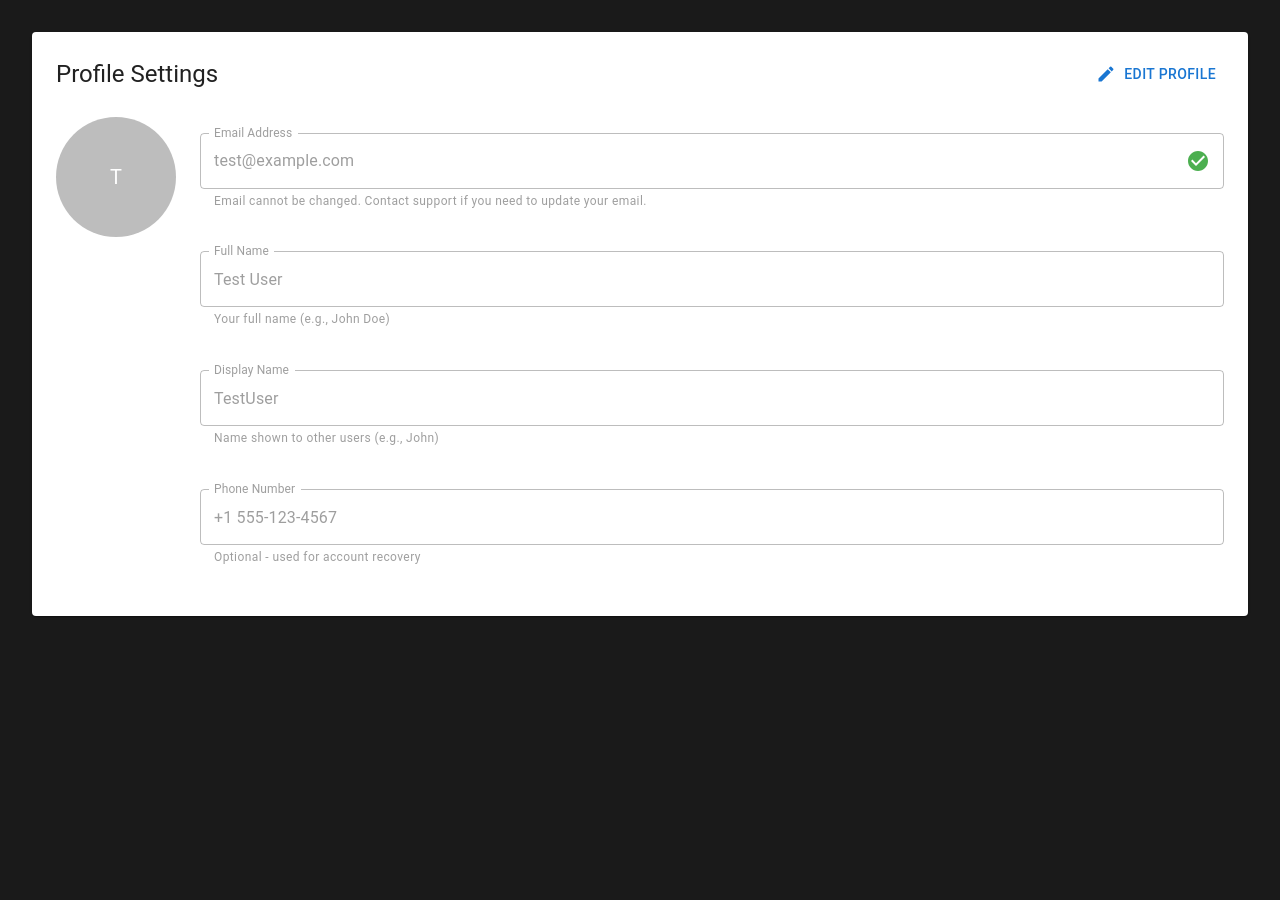
Scenario: ProfileSettings › edit mode › should reset form and exit edit mode when cancel is clicked
Click the button "Edit Profile" at (1158, 74), box [1092, 56, 1224, 92]
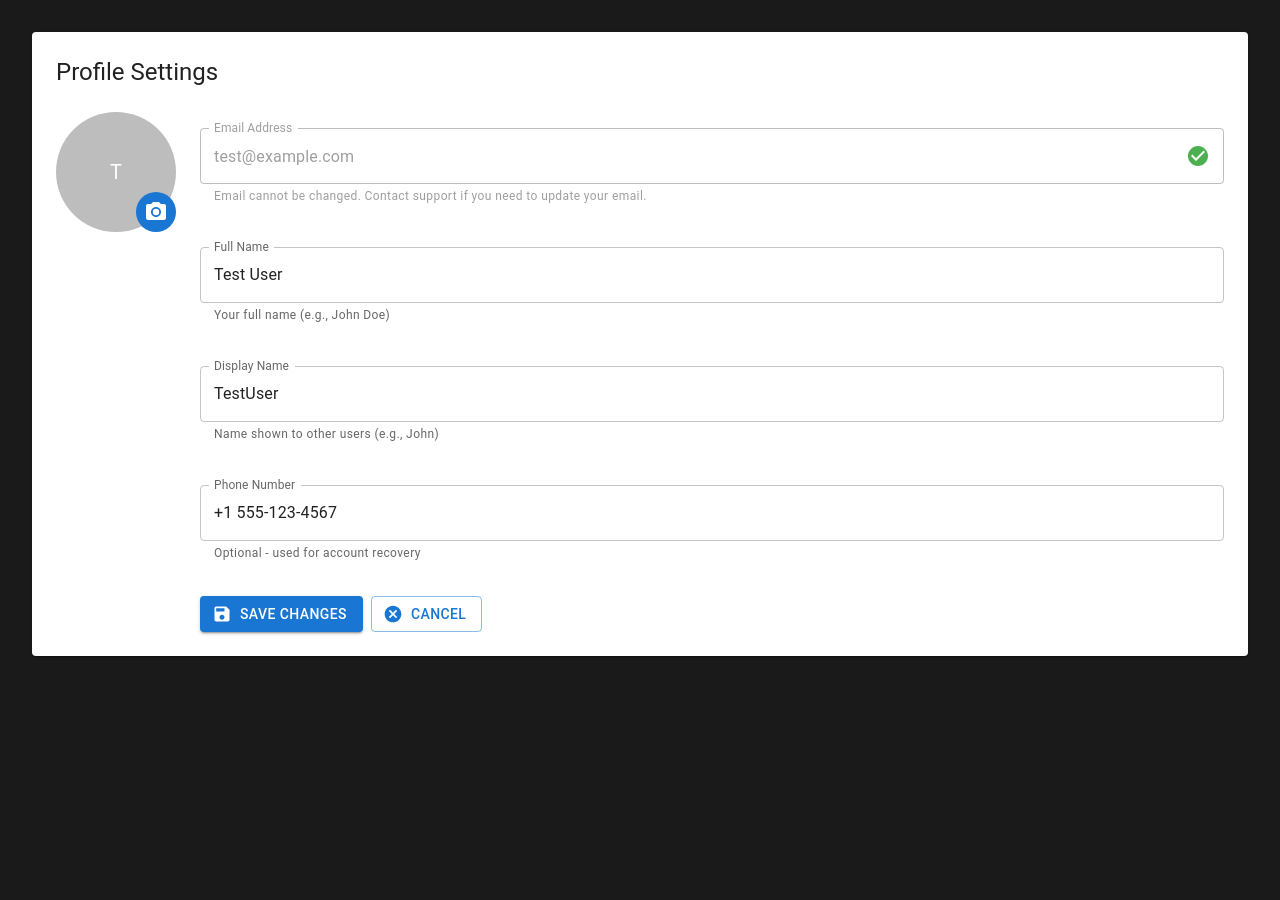
Replace the text in the field labelled "Full Name" with "Changed Name" at (712, 275), box [200, 247, 1224, 303]
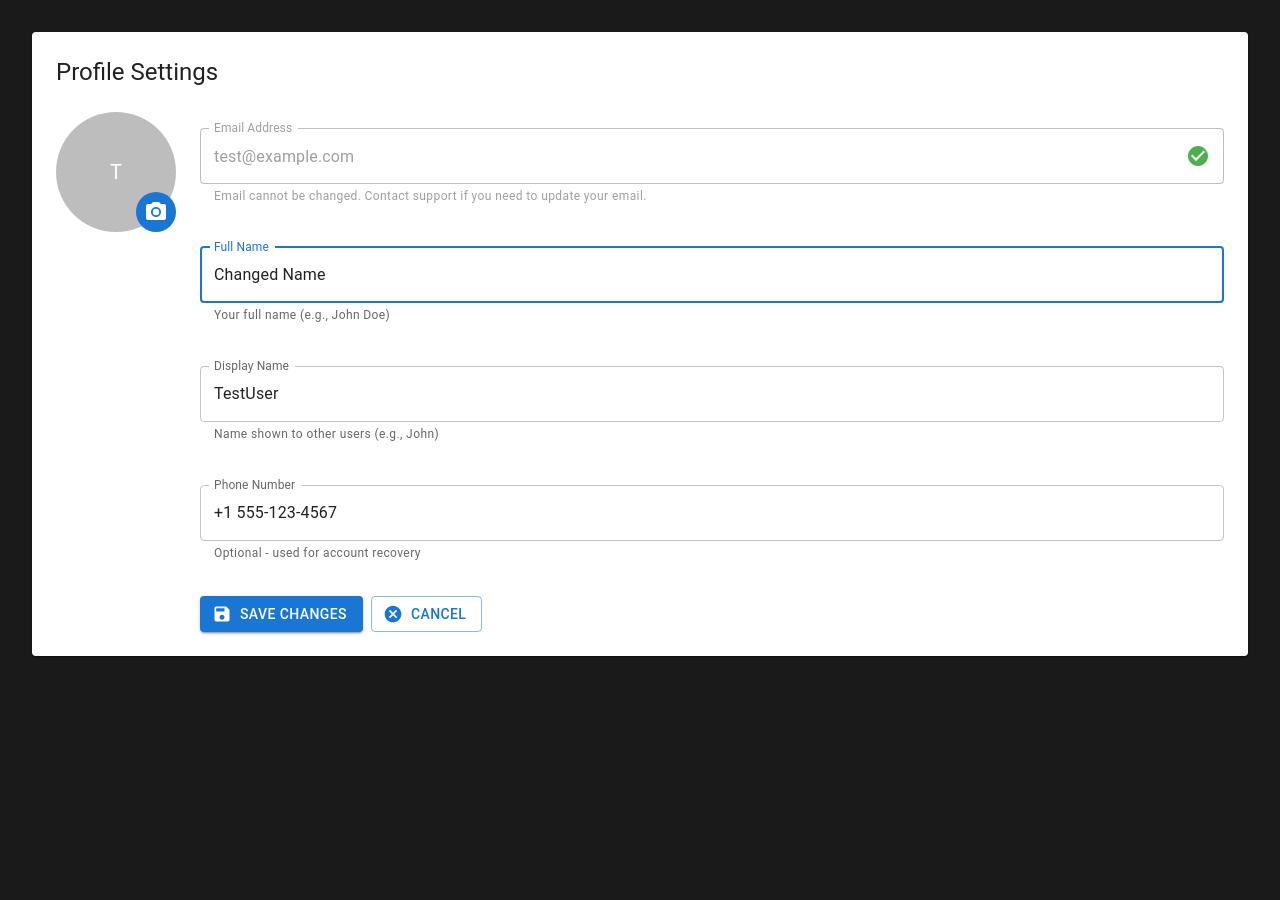
Click the button "Cancel" at (427, 614), box [371, 596, 482, 632]
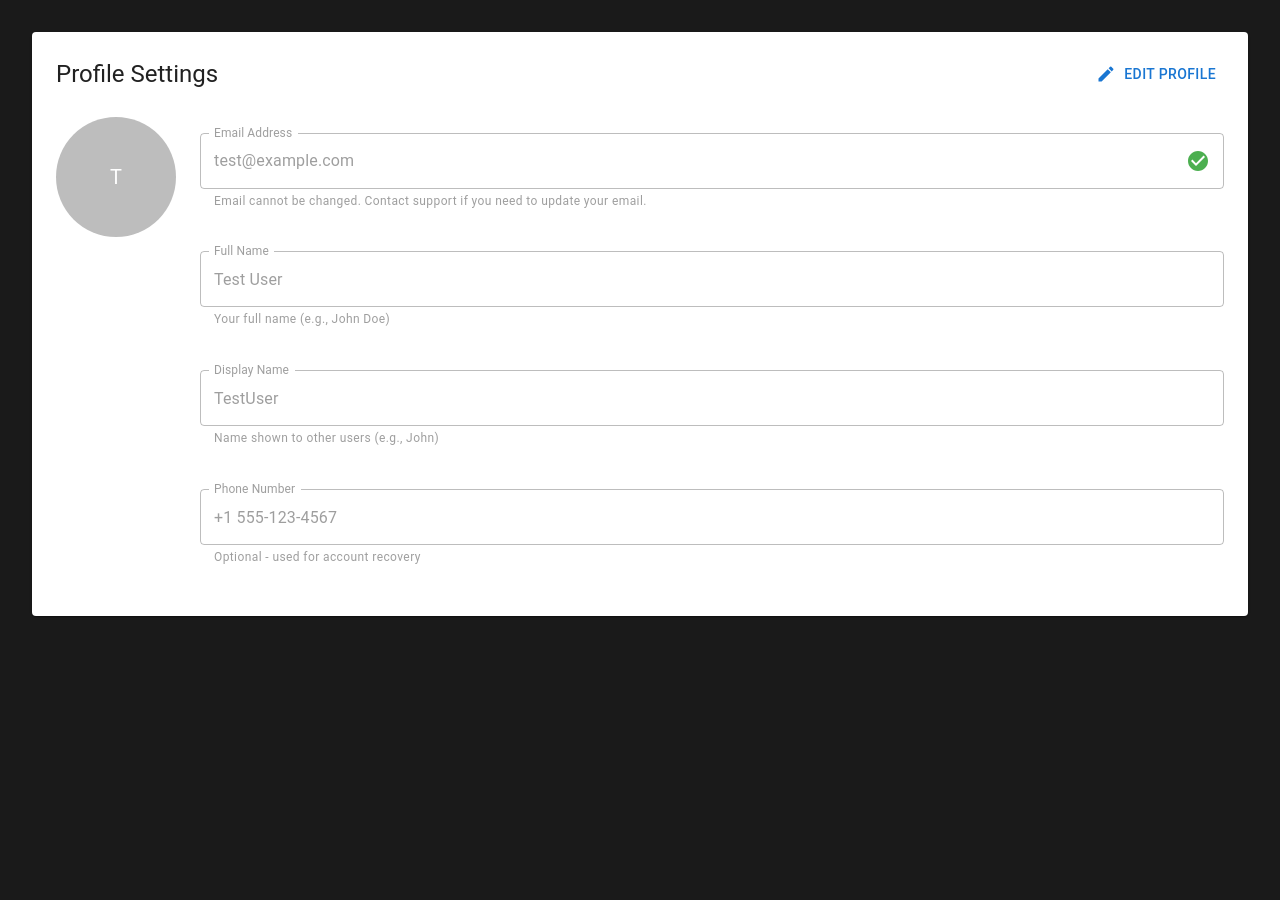
Now the field labelled "Full Name" holds "Test User", box [200, 251, 1224, 307]
Now the button "Edit Profile" is shown, box [1092, 56, 1224, 92]
